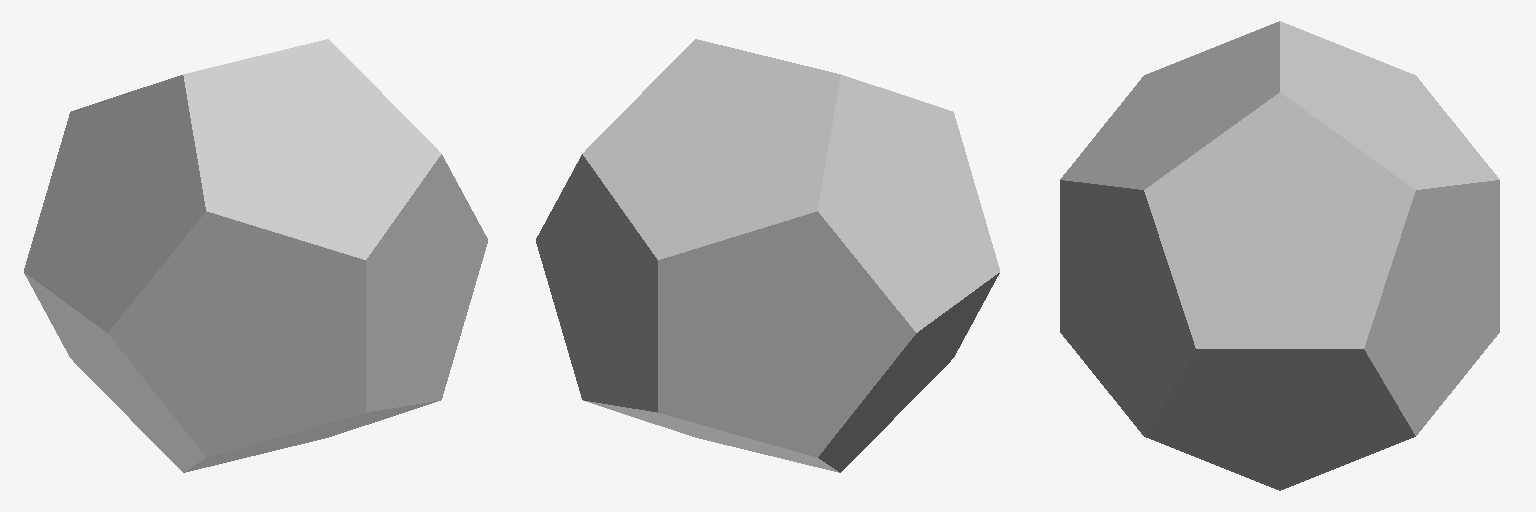
Rendered from dodecahedron.obj.
3 renders of one model, left to right at view 1: azimuth 30°, elevation 25°; view 2: azimuth 150°, elevation 25°; view 3: azimuth 270°, elevation 25°, orthographic.
Parts seen in each view (by area): view 1: dodecahedron_Cube.002; view 2: dodecahedron_Cube.002; view 3: dodecahedron_Cube.002.
Boxes of the visible parts, x1,y1,x2,y2 form: dodecahedron_Cube.002: [24, 39, 487, 472]; dodecahedron_Cube.002: [536, 39, 999, 472]; dodecahedron_Cube.002: [1060, 21, 1499, 490].
Size of the model in its own units: 2.62 by 2.62 by 2.62.